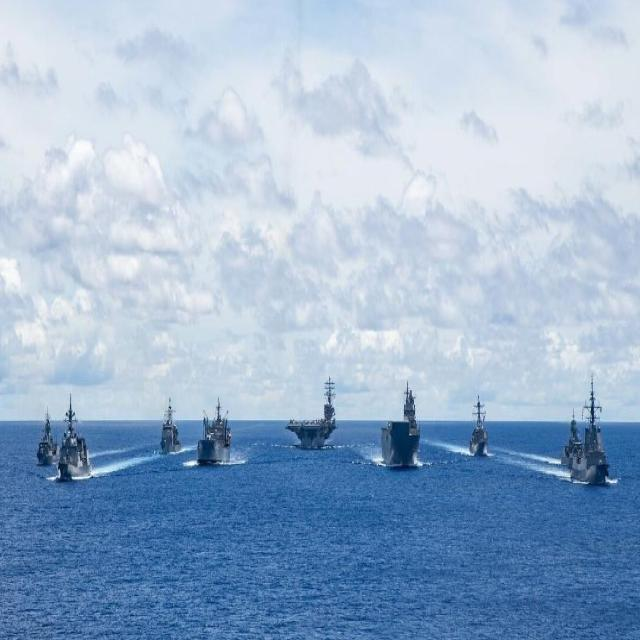navalvessels: (383, 379, 439, 466), (284, 379, 347, 444), (577, 376, 612, 487), (57, 392, 89, 492), (200, 404, 238, 471), (554, 404, 586, 479), (467, 400, 499, 462), (32, 394, 52, 478), (162, 391, 181, 465)
